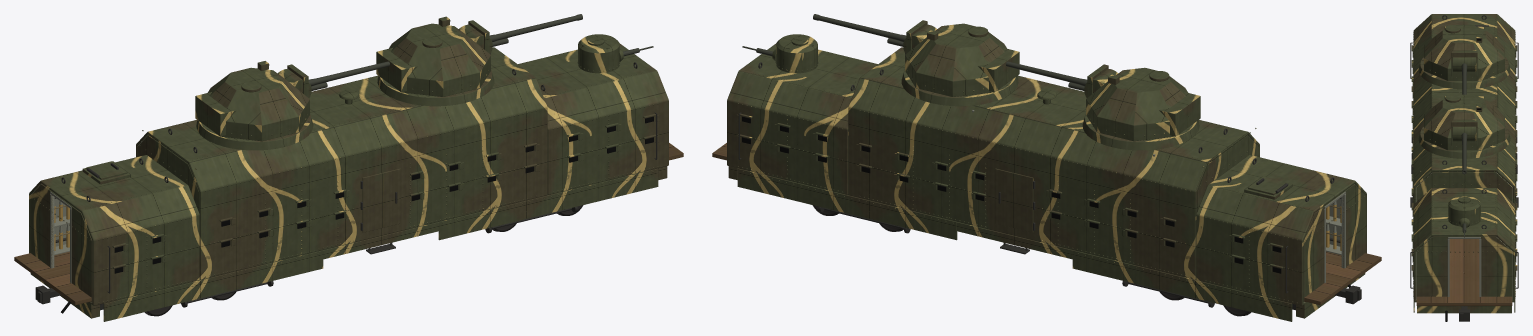
Rendered from gun_car_c.glb.
3 renders of one model, left to right at view 1: azimuth 30°, elevation 25°; view 2: azimuth 150°, elevation 25°; view 3: azimuth 270°, elevation 25°, orthographic. The views are drawn at different scales.
Parts seen in each view (by area): view 1: HullMidShell, HullRearShell, HullFrontShell, SkirtsAndJacks, TurretBody2, TurretBody, HullRearInterior, HullMidDetails, MgCupola, HullRearDetails, HullMidInterior, HullMidRivets (+4 smaller); view 2: HullMidShell, HullFrontShell, HullRearShell, SkirtsAndJacks, TurretBody2, TurretBody, HullRearInterior, HullMidDetails, MgCupola, HullRearDetails, HullMidInterior, HullMidRivets (+4 smaller); view 3: HullFrontInterior, HullMidShell, HullFrontShell, TurretBody2, TurretBody, HullMidInterior, HullRearShell, MgCupola, Underframe, HullMidDetails, HullFrontDetails, HullRearDetails (+6 smaller).
Part boxes in pixels (bbox=[...]): HullMidShell: bbox=[136, 47, 547, 279]; HullRearShell: bbox=[29, 155, 199, 305]; HullFrontShell: bbox=[518, 43, 668, 194]; SkirtsAndJacks: bbox=[103, 168, 658, 321]; TurretBody2: bbox=[195, 61, 313, 150]; TurretBody: bbox=[376, 16, 494, 106]; HullRearInterior: bbox=[14, 184, 92, 305]; HullMidDetails: bbox=[168, 53, 539, 254]; MgCupola: bbox=[577, 34, 653, 73]; HullRearDetails: bbox=[61, 158, 168, 293]; HullMidInterior: bbox=[137, 135, 198, 211]; HullMidRivets: bbox=[139, 76, 543, 277]; HullMidShell: bbox=[848, 47, 1259, 279]; HullFrontShell: bbox=[727, 43, 877, 194]; HullRearShell: bbox=[1196, 155, 1366, 305]; SkirtsAndJacks: bbox=[737, 168, 1292, 321]; TurretBody2: bbox=[1082, 64, 1200, 150]; TurretBody: bbox=[901, 20, 1019, 106]; HullRearInterior: bbox=[1303, 184, 1381, 305]; HullMidDetails: bbox=[856, 53, 1227, 254]; MgCupola: bbox=[742, 34, 818, 73]; HullRearDetails: bbox=[1227, 158, 1334, 293]; HullMidInterior: bbox=[972, 110, 1258, 211]; HullMidRivets: bbox=[855, 76, 1256, 277]; HullFrontInterior: bbox=[1416, 236, 1512, 305]; HullMidShell: bbox=[1413, 37, 1515, 204]; HullFrontShell: bbox=[1413, 188, 1515, 302]; TurretBody2: bbox=[1418, 25, 1510, 89]; TurretBody: bbox=[1418, 94, 1510, 158]; HullMidInterior: bbox=[1416, 172, 1512, 256]; HullRearShell: bbox=[1413, 14, 1515, 53]; MgCupola: bbox=[1447, 196, 1481, 237]; Underframe: bbox=[1417, 306, 1511, 321]; HullMidDetails: bbox=[1410, 86, 1518, 219]; HullFrontDetails: bbox=[1410, 189, 1518, 288]; HullRearDetails: bbox=[1410, 15, 1518, 85].
Bounding box in the file's own units: 17.22 × 5.39 × 3.3.
14 materials, 3 textured.
